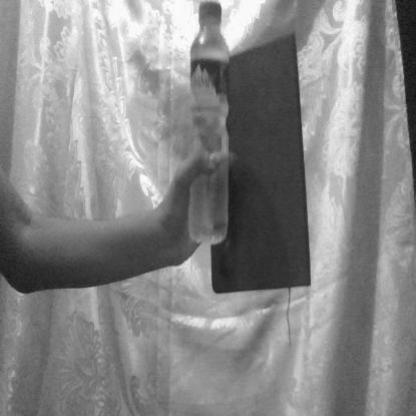Plastic Bottle: (184, 5, 242, 248)
